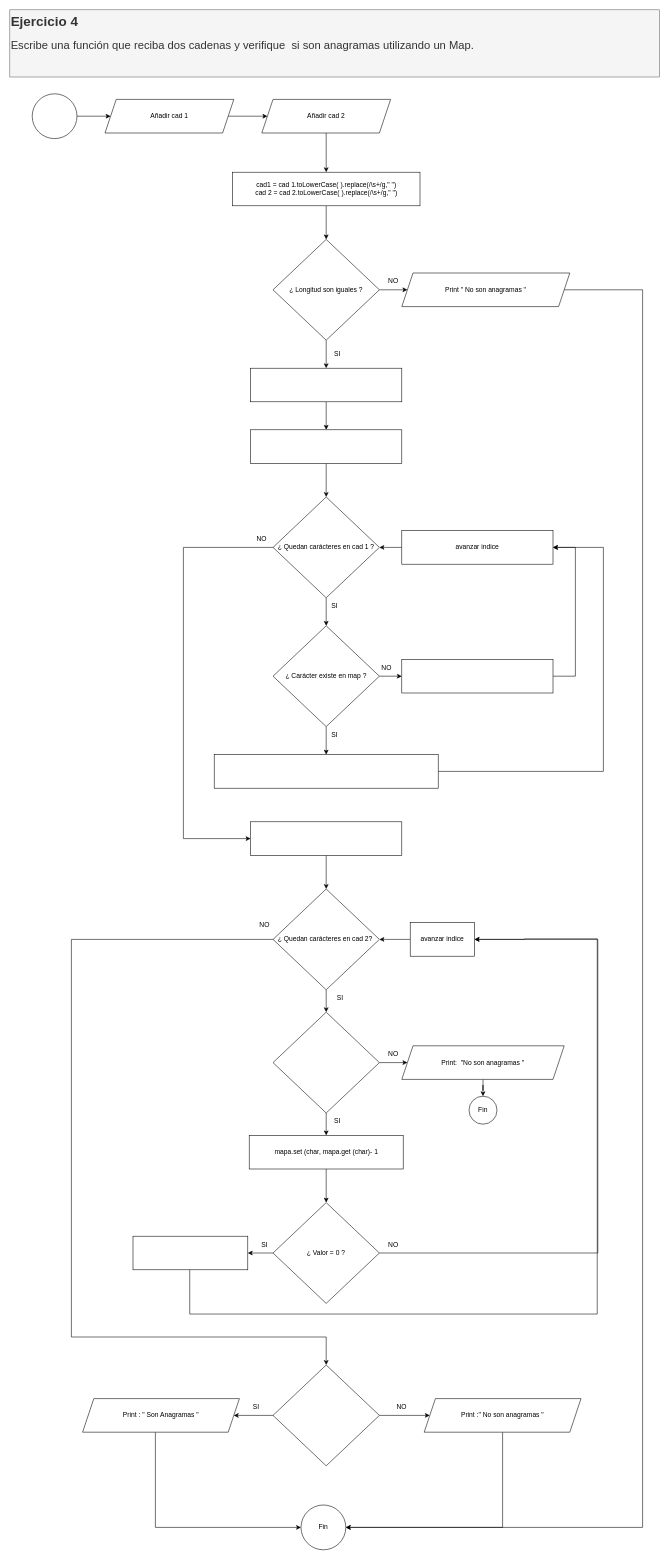
Some shapes in this 669 by 1560 pixel diagram are drawn without their labels. Here are the shapes that lost their labels. From the top down, the centre of each, then its label:
At (54,116): "Inicio".
At (326,385): "Mapa = new map ( )".
At (326,446): "recorrer carácteres cad 1".
At (477,676): "map.set (char, 1)".
At (326,771): "mapa.set (char, mapa.get (char)+1".
At (326,838): "recorrer carácteres cad 2".
At (325,1062): "¿Carácter existe en Map ?".
At (190,1253): "mapa.delete (char)".
At (325,1415): "¿Map vacio al final ?".
